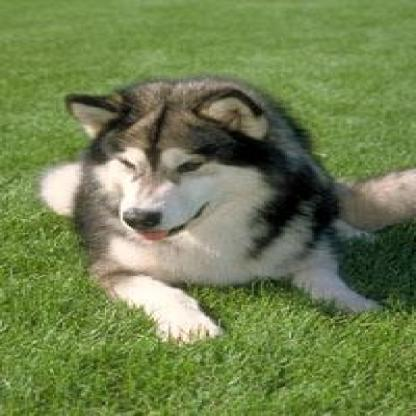Eskimo_dog: (42, 74, 412, 341)
